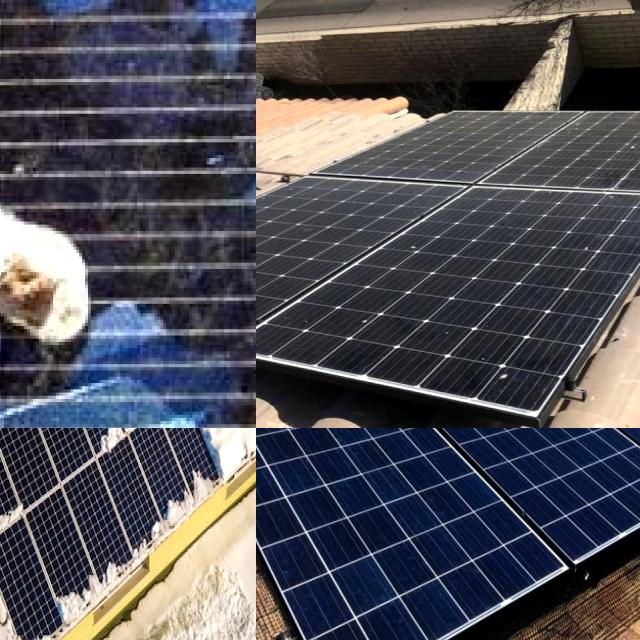bird: (0, 150, 113, 344), (0, 139, 29, 186)
crack: (256, 428, 576, 640), (334, 428, 640, 626), (476, 428, 640, 526), (352, 428, 556, 498), (256, 428, 462, 495), (436, 428, 616, 487), (256, 428, 383, 503), (272, 428, 438, 476), (351, 428, 510, 472), (256, 428, 361, 489), (521, 428, 640, 474)
dust: (468, 354, 566, 409)
panel: (169, 428, 236, 486), (49, 579, 115, 629), (136, 428, 198, 478), (154, 472, 224, 514), (0, 593, 53, 640), (39, 428, 115, 454), (0, 495, 34, 550), (89, 428, 137, 462), (114, 524, 153, 560), (83, 428, 140, 450), (186, 428, 255, 446), (202, 428, 256, 451), (36, 428, 89, 449), (141, 428, 196, 448), (0, 428, 41, 454), (0, 428, 20, 475), (226, 428, 256, 456), (0, 428, 27, 454), (0, 428, 33, 444), (0, 428, 20, 449)
